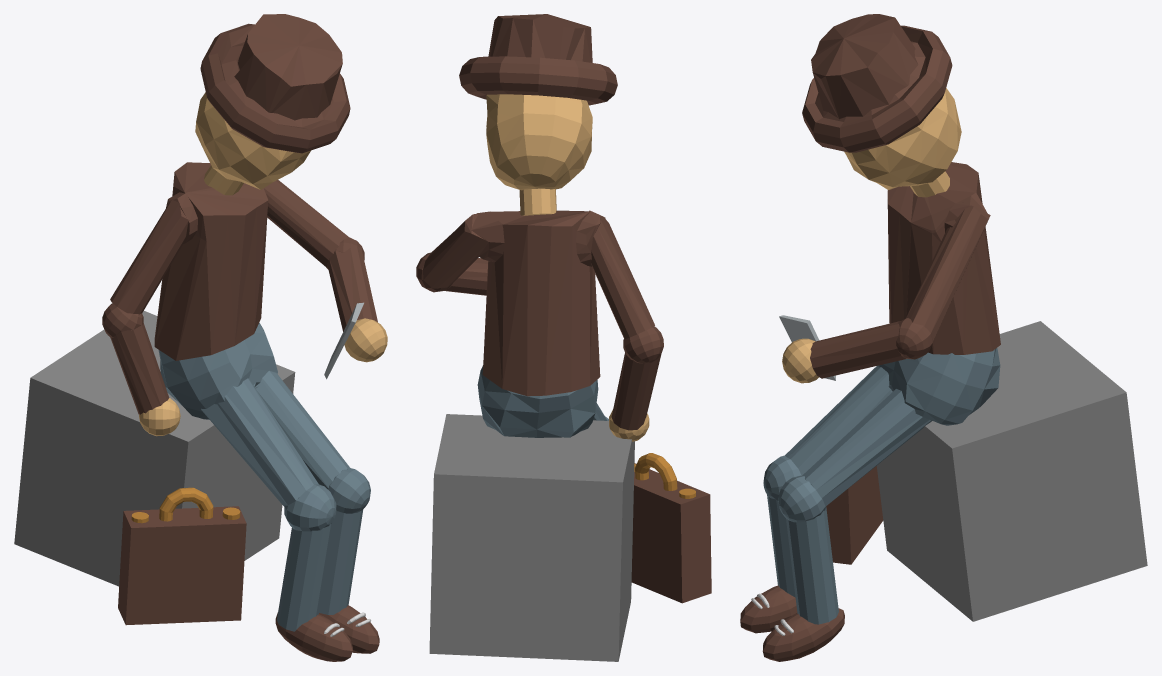
Rendered from man.glb.
The picture shows the model from 3 angles, left to right: view 1: azimuth 30°, elevation 25°; view 2: azimuth 150°, elevation 25°; view 3: azimuth 270°, elevation 25°; orthographic projection. The views are drawn at different scales.
Visible parts, largest first — view 1: node_MeshObject-1359275008-PolyPaper18; view 2: node_MeshObject-1359275008-PolyPaper18; view 3: node_MeshObject-1359275008-PolyPaper18.
Boxes of the visible parts, box(x1,y1,x2,y2) form: node_MeshObject-1359275008-PolyPaper18: box(14, 14, 387, 661); node_MeshObject-1359275008-PolyPaper18: box(416, 14, 711, 661); node_MeshObject-1359275008-PolyPaper18: box(740, 14, 1147, 661).
Bounding box in the file's own units: 1.44 × 3.05 × 1.81.
